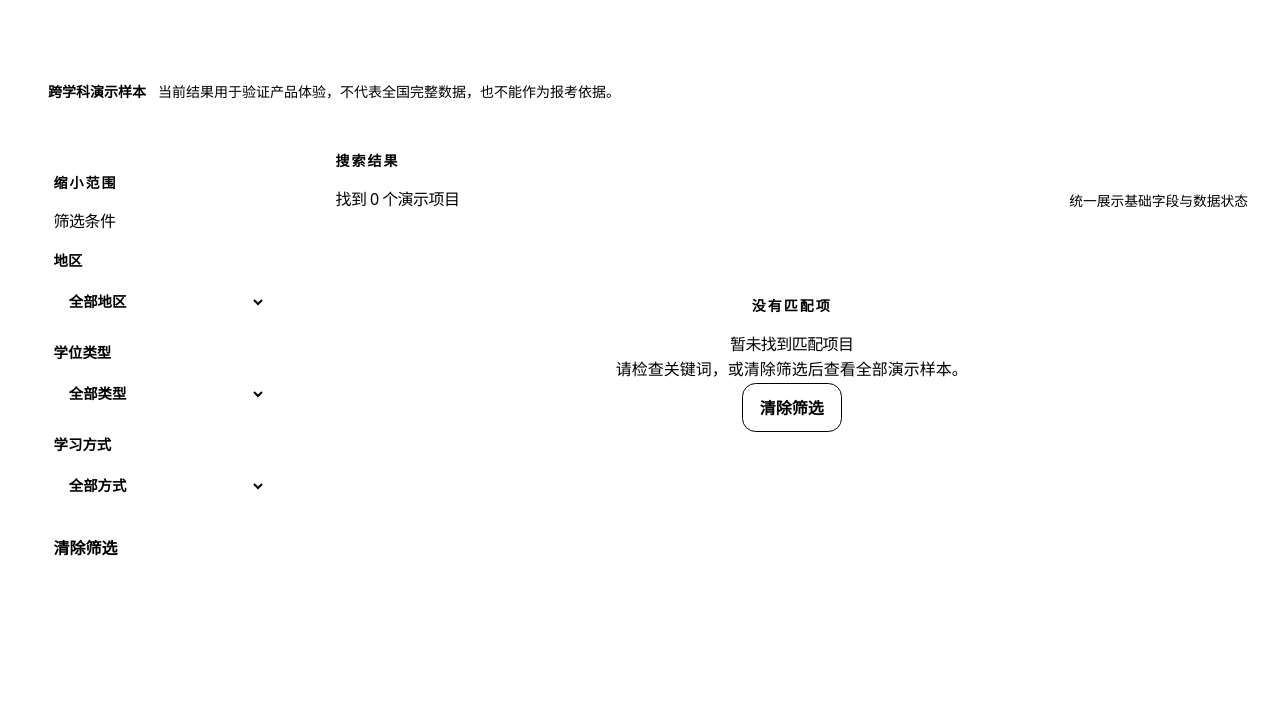
Test: SearchExplorer › shows a recoverable empty state and clears every filter
The image size is (1280, 720).
(page scrolled)
Expected: the heading "暂未找到匹配项目" is shown, 730,333 -> 854,355
Step 1. Click the button "清除筛选" below "请检查关键词，或清除筛选后查看全部演示样本。" → (792, 408), box 742,383 -> 842,432
(page scrolled)
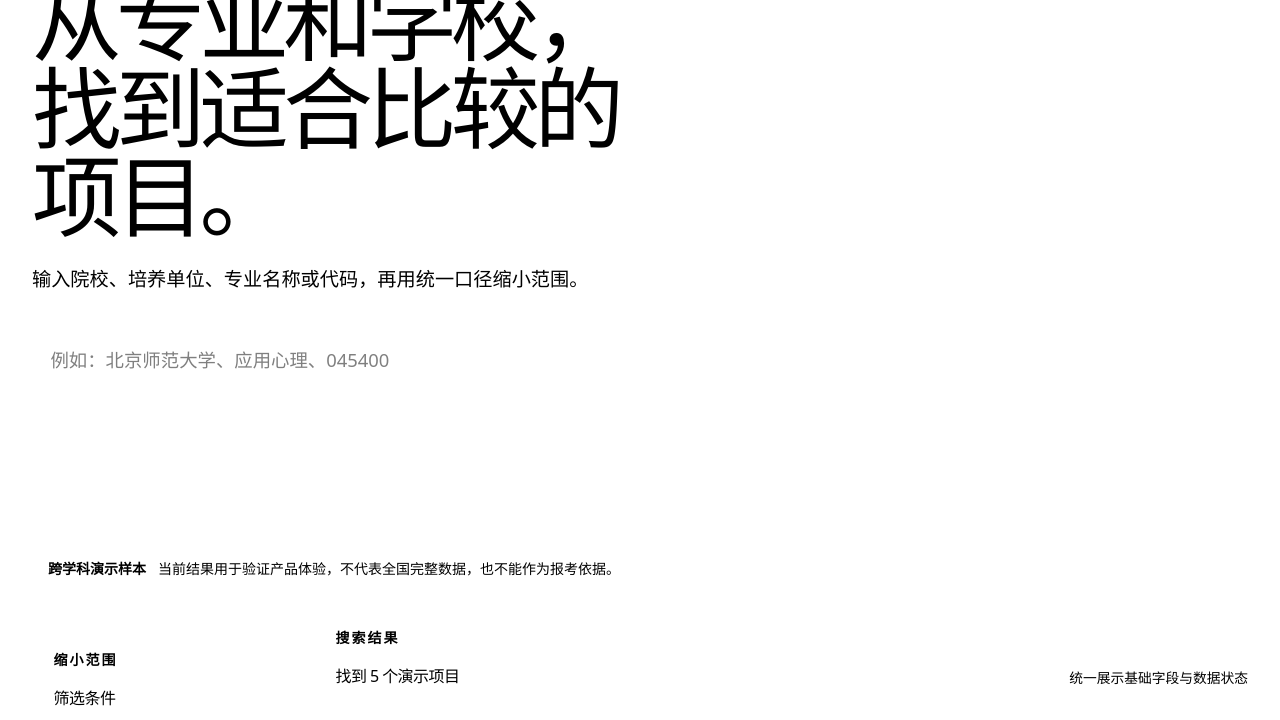
Expected: the search field is empty, 32,328 -> 864,392
